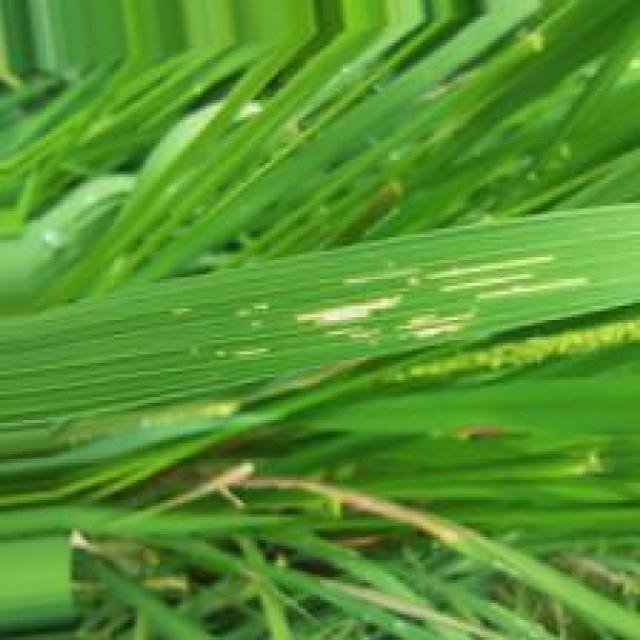Rice_Hispa: (290, 292, 410, 332), (402, 305, 476, 345)
